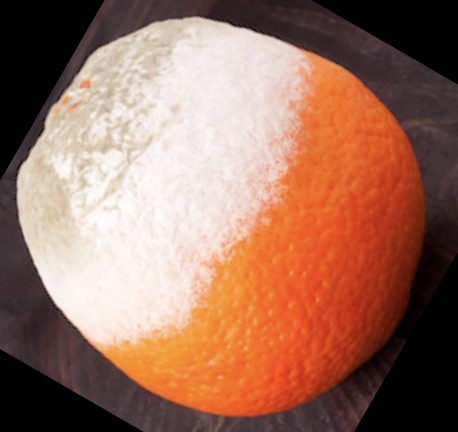rotten_orange: (18, 19, 422, 417)
